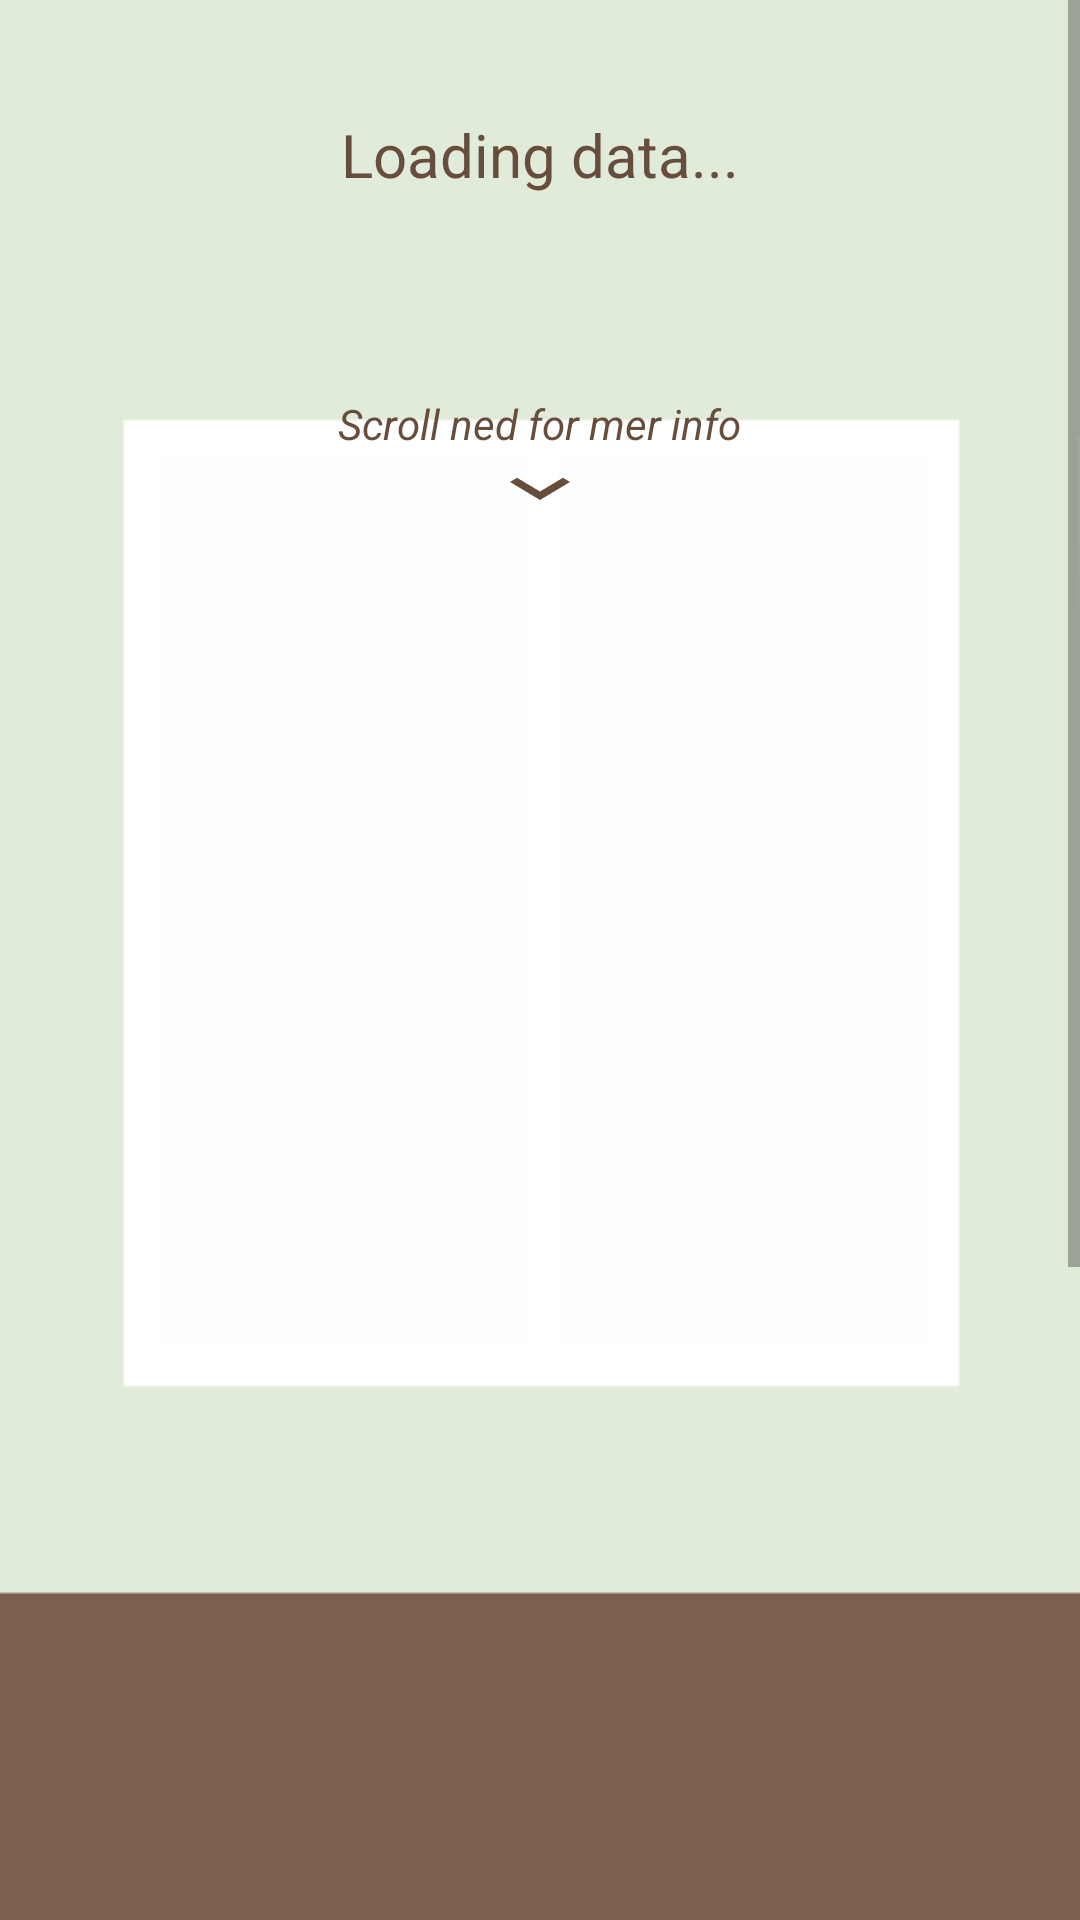

Icon click points for this 1080x1920 phone screenshot, format point (x, y):
Her er det mulig å scrolle ned: point (540, 489)
